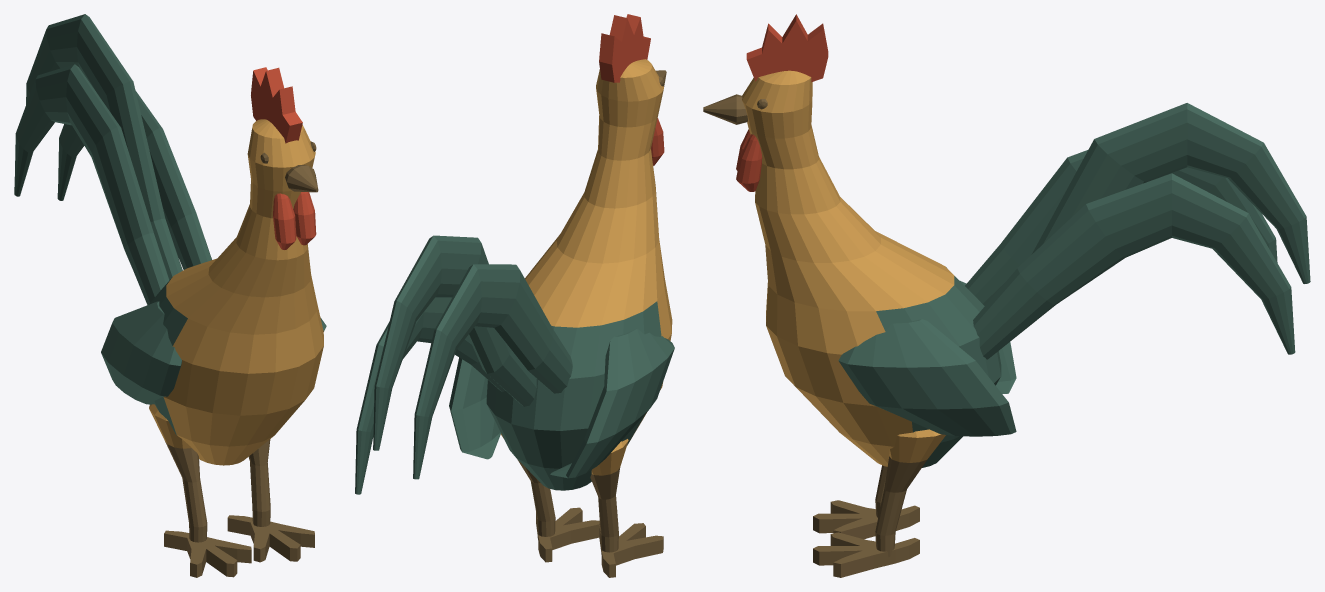
The picture shows the model from 3 angles, left to right: view 1: azimuth 30°, elevation 25°; view 2: azimuth 150°, elevation 25°; view 3: azimuth 270°, elevation 25°; orthographic projection. The views are drawn at different scales.
Visible parts, largest first — view 1: WholeDeepBreastLongBackUprightNeckAndSmallHead, WholeHighArchedDroopingSickleTail0, WholeHighArchedDroopingSickleTail1, WholeFoldedRoosterWing0, WholeHighArchedDroopingSickleTail2, WholeStoutThighAndLongShank0, WholeThickSerratedSingleComb, WholeThreeForwardToeRearHalluxFoot1, WholeThreeForwardToeRearHalluxFoot0, WholeStoutThighAndLongShank1, WholeHangingRoundedWattle0, WholeHangingRoundedWattle1 (+1 smaller); view 2: WholeDeepBreastLongBackUprightNeckAndSmallHead, WholeHighArchedDroopingSickleTail0, WholeHighArchedDroopingSickleTail1, WholeFoldedRoosterWing0, WholeHighArchedDroopingSickleTail2, WholeFoldedRoosterWing1, WholeThickSerratedSingleComb, WholeStoutThighAndLongShank0, WholeThreeForwardToeRearHalluxFoot0, WholeThreeForwardToeRearHalluxFoot1, WholeStoutThighAndLongShank1, WholeHangingRoundedWattle0; view 3: WholeDeepBreastLongBackUprightNeckAndSmallHead, WholeHighArchedDroopingSickleTail2, WholeHighArchedDroopingSickleTail1, WholeFoldedRoosterWing1, WholeHighArchedDroopingSickleTail0, WholeStoutThighAndLongShank1, WholeThickSerratedSingleComb, WholeThreeForwardToeRearHalluxFoot1, WholeThreeForwardToeRearHalluxFoot0, WholeHangingRoundedWattle1, WholeShortTaperedRoosterBill.
Boxes of the visible parts, x1,y1,x2,y2 form: WholeDeepBreastLongBackUprightNeckAndSmallHead: [149, 119, 323, 465]; WholeHighArchedDroopingSickleTail0: [14, 64, 169, 304]; WholeHighArchedDroopingSickleTail1: [26, 14, 182, 279]; WholeFoldedRoosterWing0: [101, 301, 181, 404]; WholeHighArchedDroopingSickleTail2: [57, 91, 211, 269]; WholeStoutThighAndLongShank0: [149, 404, 207, 542]; WholeThickSerratedSingleComb: [251, 67, 302, 143]; WholeThreeForwardToeRearHalluxFoot1: [227, 515, 314, 562]; WholeThreeForwardToeRearHalluxFoot0: [164, 530, 251, 577]; WholeStoutThighAndLongShank1: [248, 439, 270, 526]; WholeHangingRoundedWattle0: [273, 193, 296, 249]; WholeHangingRoundedWattle1: [293, 192, 316, 245]; WholeDeepBreastLongBackUprightNeckAndSmallHead: [486, 59, 672, 490]; WholeHighArchedDroopingSickleTail0: [413, 264, 572, 479]; WholeHighArchedDroopingSickleTail1: [373, 235, 536, 450]; WholeFoldedRoosterWing0: [550, 328, 674, 478]; WholeHighArchedDroopingSickleTail2: [355, 297, 505, 494]; WholeFoldedRoosterWing1: [449, 357, 500, 459]; WholeThickSerratedSingleComb: [599, 14, 650, 82]; WholeStoutThighAndLongShank0: [590, 439, 628, 554]; WholeThreeForwardToeRearHalluxFoot0: [599, 523, 663, 577]; WholeThreeForwardToeRearHalluxFoot1: [536, 507, 599, 562]; WholeStoutThighAndLongShank1: [501, 433, 555, 538]; WholeHangingRoundedWattle0: [651, 118, 664, 165]; WholeDeepBreastLongBackUprightNeckAndSmallHead: [742, 70, 1001, 467]; WholeHighArchedDroopingSickleTail2: [973, 173, 1295, 359]; WholeHighArchedDroopingSickleTail1: [1031, 103, 1310, 283]; WholeFoldedRoosterWing1: [838, 319, 1016, 436]; WholeHighArchedDroopingSickleTail0: [965, 150, 1277, 305]; WholeStoutThighAndLongShank1: [875, 429, 945, 557]; WholeThickSerratedSingleComb: [746, 14, 828, 82]; WholeThreeForwardToeRearHalluxFoot1: [813, 532, 919, 577]; WholeThreeForwardToeRearHalluxFoot0: [813, 500, 919, 539]; WholeHangingRoundedWattle1: [736, 134, 762, 191]; WholeShortTaperedRoosterBill: [703, 94, 747, 124].
Bounding box in the file's own units: 0.81 × 2.29 × 2.38.
